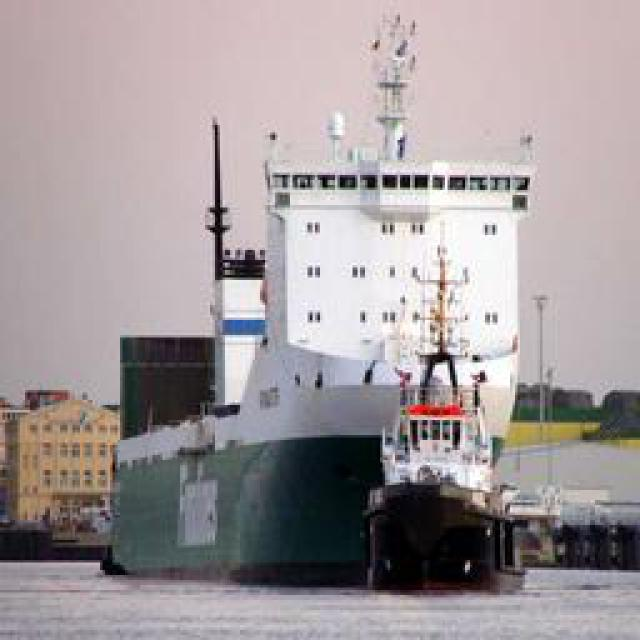Ship: (385, 335, 638, 518)
